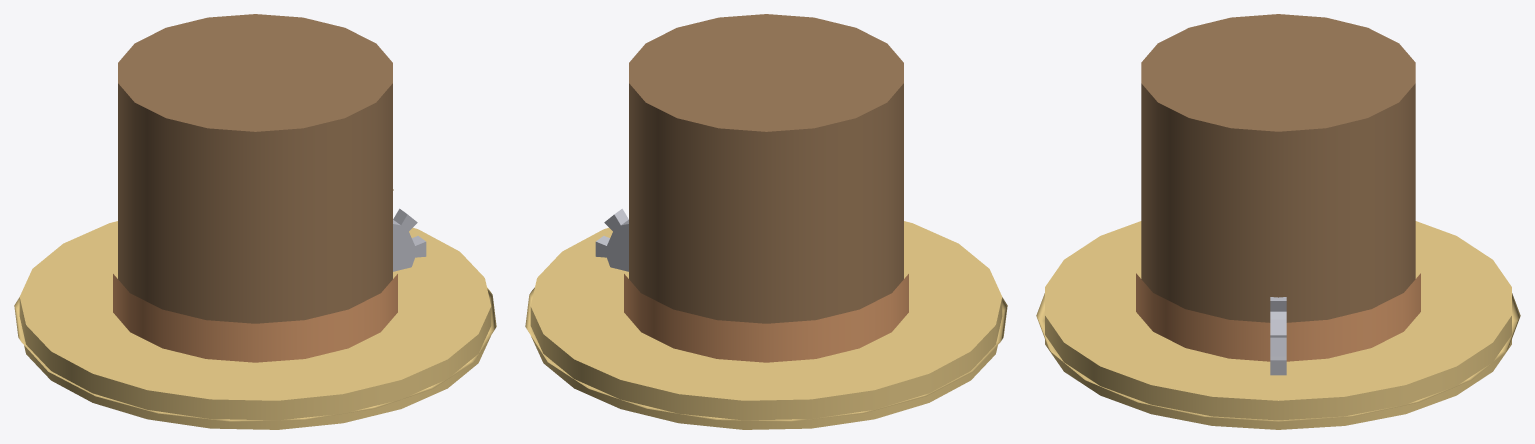
File: top_hat_steam.glb
3 views of the same model, side by side, from view 1: azimuth 30°, elevation 25°; view 2: azimuth 150°, elevation 25°; view 3: azimuth 270°, elevation 25° (orthographic).
Parts seen in each view (by area): view 1: crown, brim, band, gear; view 2: crown, brim, band, gear; view 3: crown, brim, band, gear.
Boxes of the visible parts, bbox=[...] form: crown: bbox=[118, 14, 392, 323]; brim: bbox=[14, 221, 496, 429]; band: bbox=[113, 274, 397, 362]; gear: bbox=[393, 208, 426, 271]; crown: bbox=[629, 14, 903, 323]; brim: bbox=[525, 221, 1007, 429]; band: bbox=[624, 274, 908, 362]; gear: bbox=[595, 208, 628, 271]; crown: bbox=[1141, 14, 1415, 322]; brim: bbox=[1036, 221, 1520, 429]; band: bbox=[1136, 273, 1420, 361]; gear: bbox=[1270, 297, 1286, 375].
Size of the model in its own units: 0.452 by 0.2694 by 0.452.
